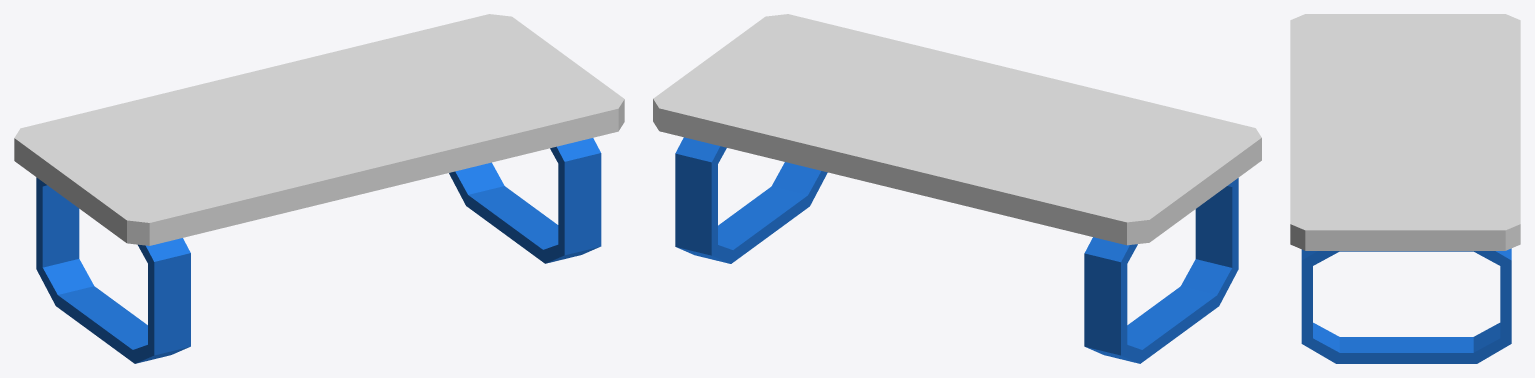
File: masa.1.fbx
3 renders of one model, left to right at view 1: azimuth 30°, elevation 25°; view 2: azimuth 150°, elevation 25°; view 3: azimuth 270°, elevation 25°, orthographic. The views are drawn at different scales.
Visible parts, largest first — view 1: Cube.001; view 2: Cube.001; view 3: Cube.001.
Boxes of the visible parts, x1,y1,x2,y2 form: Cube.001: (14, 14, 624, 363); Cube.001: (653, 14, 1261, 363); Cube.001: (1290, 14, 1520, 363).
Bounding box in the file's own units: 200 × 62.37 × 89.96.
